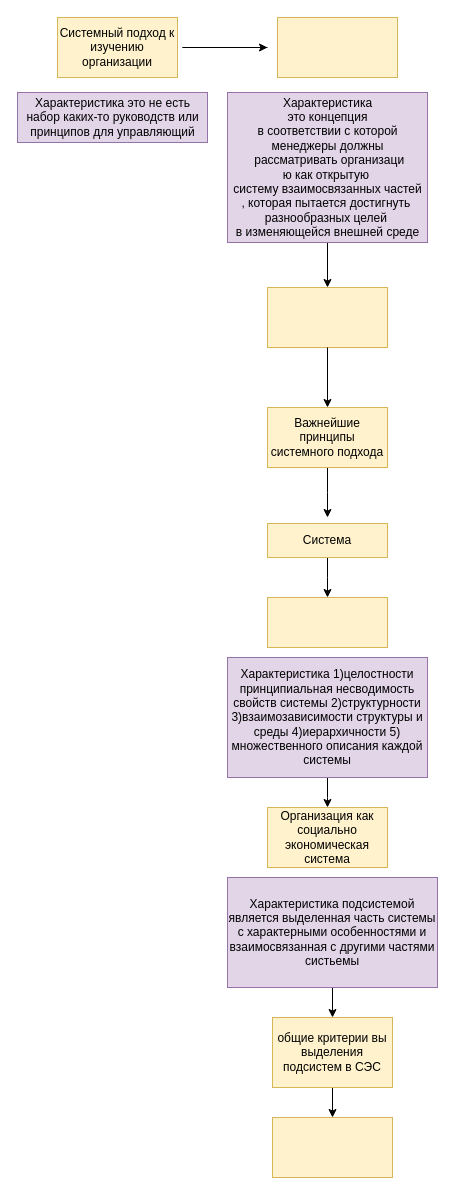
Some shapes in this 455 by 1195 pixel diagram are drawn without their labels. The centre of each missing label's shape, as x and y in pixels:
Ключевые положения теории систем: (327,317)
Основные системные принципы: (327,622)
Системные признаки СЭС: (332,1147)
Теория систем: (337,47)
